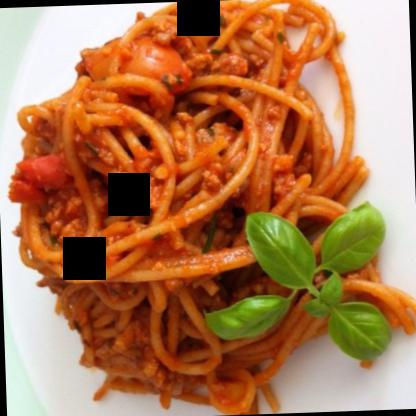pasta: (12, 0, 409, 411)
